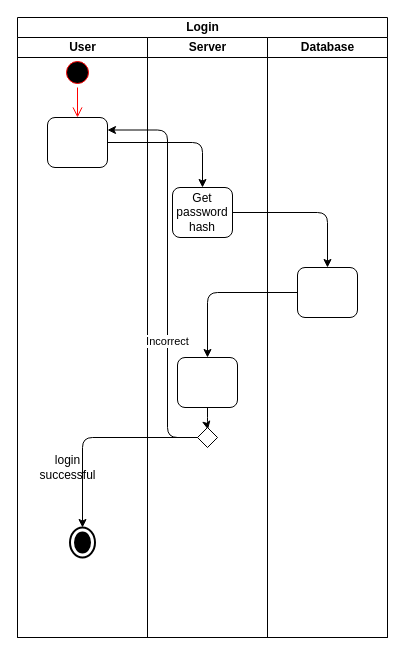
The diagram is 405 pixels wide and 655 high, and some of its shapes have lost their labels. The box of each missing label's shape, as (x1, y1, x2, y2) in pixels:
Fill login form: (46, 116, 108, 168)
Query hash using login info: (296, 266, 358, 318)
Validate the input: (176, 356, 238, 408)
